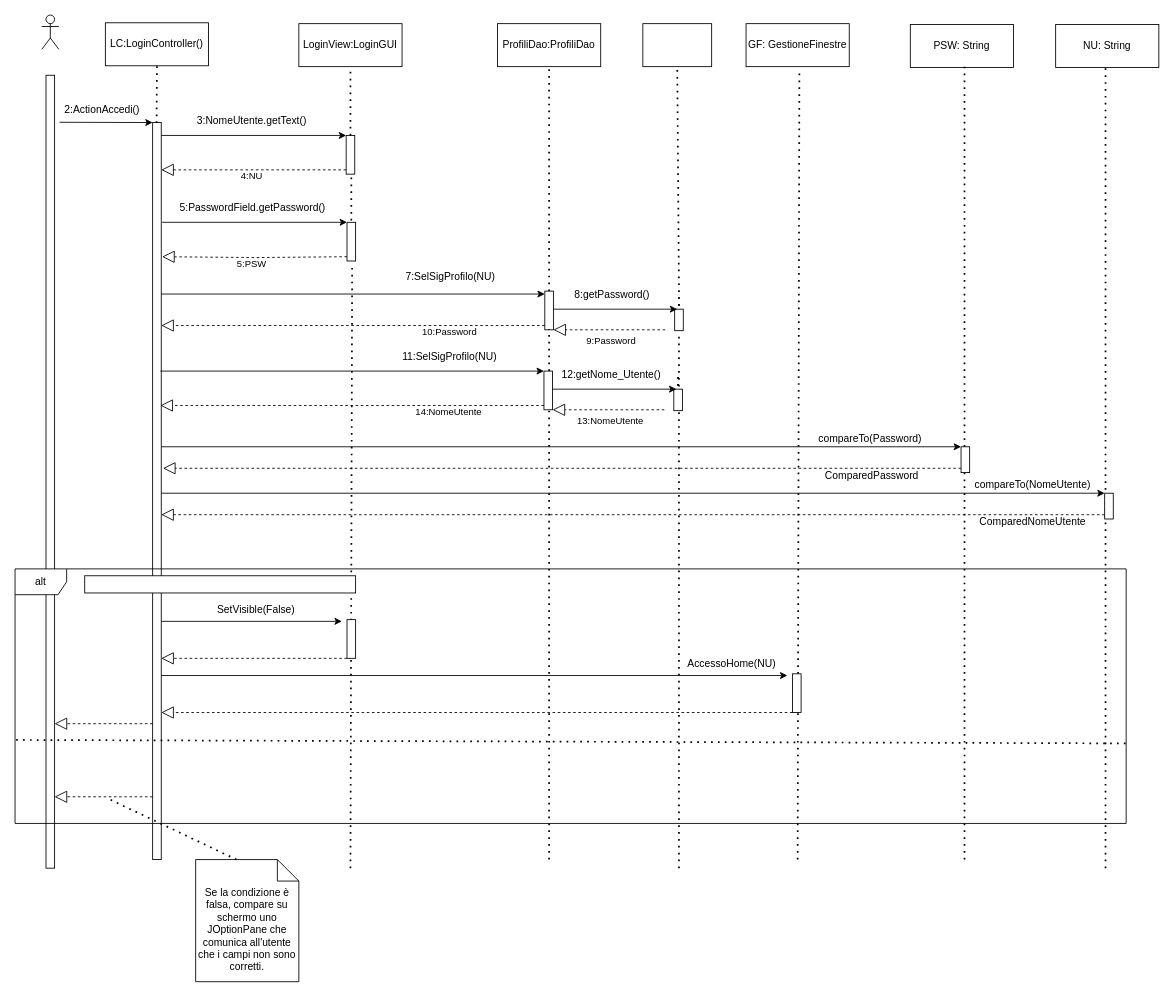
Some shapes in this 1174 by 997 pixel diagram are drawn without their labels. Each missing label, with the centre of its shape:
Actor: point 50,31
ComparedPassword==0 && ComparedNomeUtente==0: point 220,584
Profili: point 677,45
